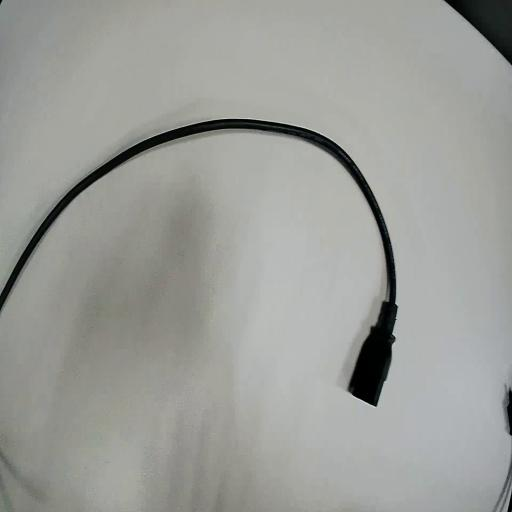wire: (0, 120, 396, 404), (446, 0, 511, 63)
